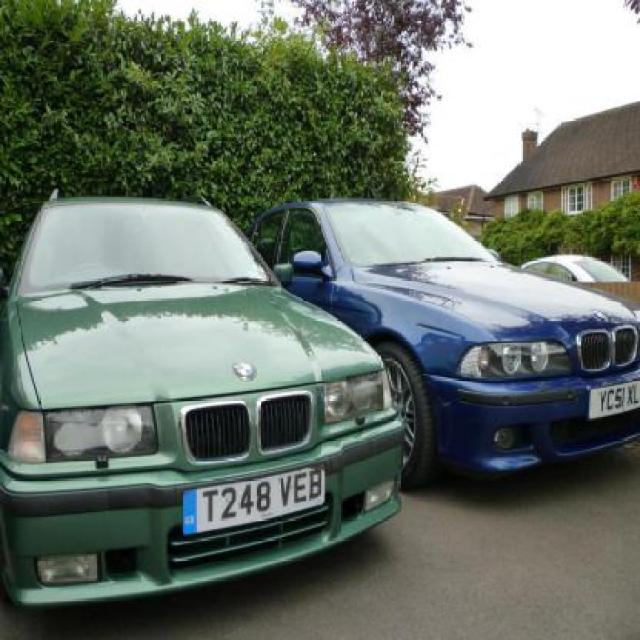License-Plates: (179, 461, 329, 541), (585, 379, 640, 422)
